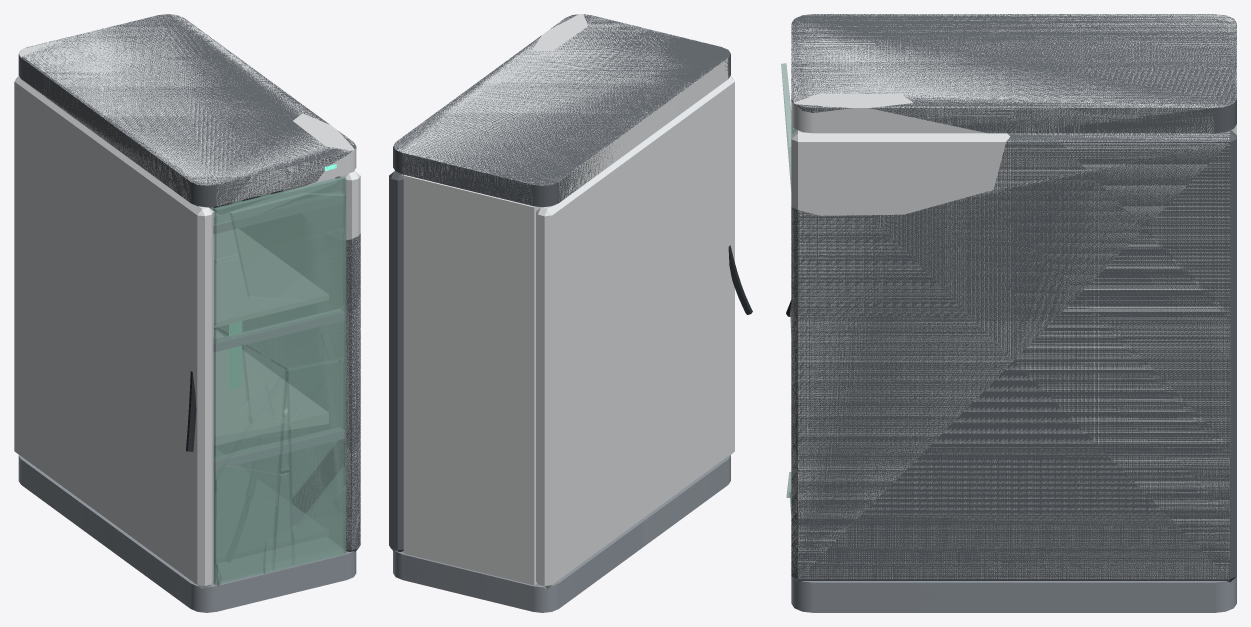
File: vta_cmp_specimen_rack_a.glb
3 renders of one model, left to right at view 1: azimuth 30°, elevation 25°; view 2: azimuth 150°, elevation 25°; view 3: azimuth 270°, elevation 25°, orthographic. The views are drawn at different scales.
Parts seen in each view (by area): view 1: mesh_heavy, mesh_intact, mesh_light; view 2: mesh_heavy, mesh_light, mesh_intact; view 3: mesh_heavy, mesh_intact, mesh_light.
Boxes of the visible parts, x1=… form: mesh_heavy: x1=14, y1=14, x2=360, y2=612; mesh_intact: x1=14, y1=14, x2=360, y2=585; mesh_light: x1=14, y1=15, x2=353, y2=611; mesh_heavy: x1=389, y1=14, x2=752, y2=612; mesh_light: x1=393, y1=14, x2=734, y2=611; mesh_intact: x1=393, y1=14, x2=734, y2=584; mesh_heavy: x1=781, y1=14, x2=1236, y2=612; mesh_intact: x1=791, y1=14, x2=1236, y2=579; mesh_light: x1=791, y1=14, x2=1236, y2=612.
Size of the model in its own units: 0.4337 by 1 by 0.8186.
